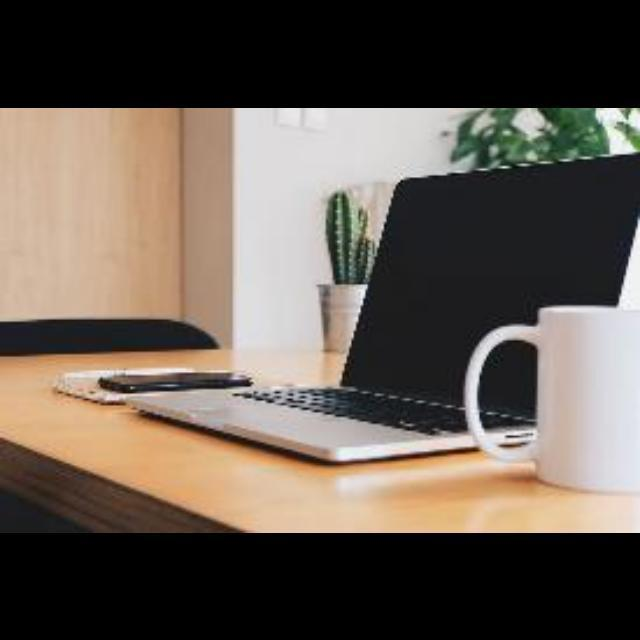phone: (69, 348, 274, 402)
